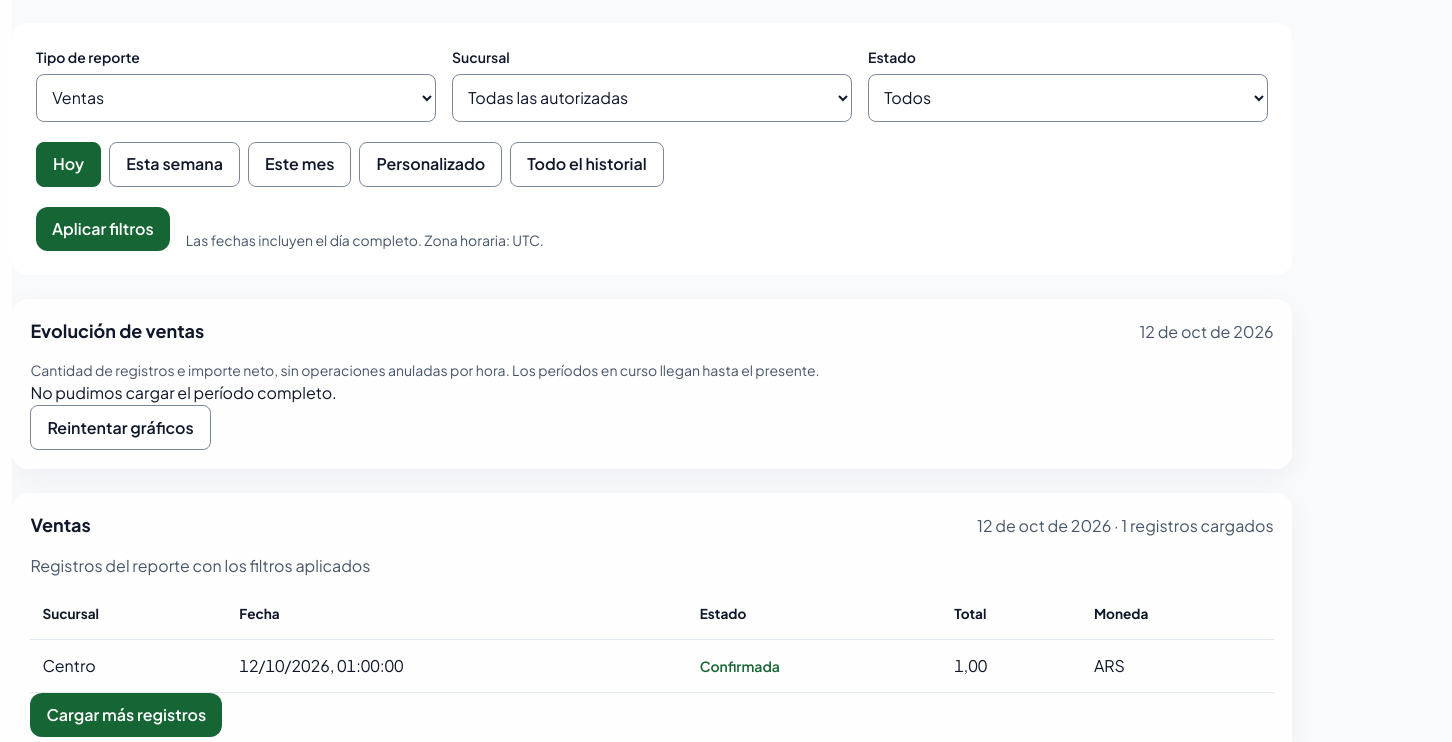
Test: reportes por rol › conserva el listado cuando falla una página de gráficos y permite reintentar
Expected: the text "No pudimos cargar el período completo." is shown, [30,382,337,403]
Expected: the table is shown, [30,554,1274,693]
Click the button "Reintentar gráficos" at (121, 428), box [30,405,211,450]
(page scrolled)
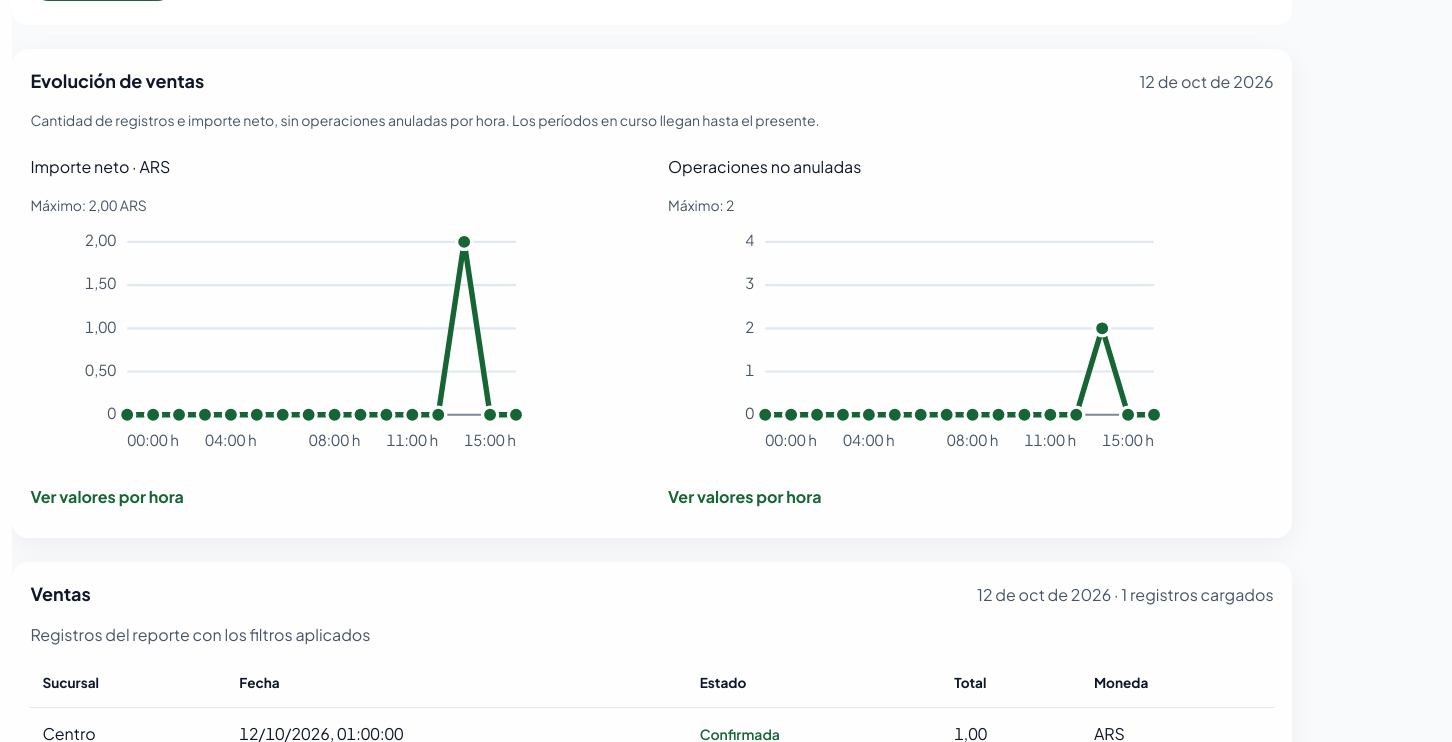
Expected: the element "Importe neto · ARS" is shown, [30,155,636,519]
